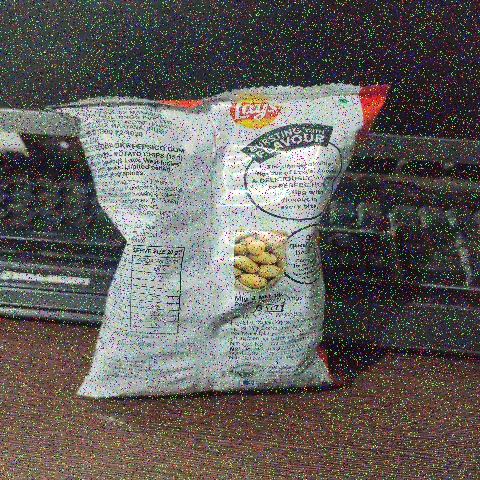lays_orange_pack: (74, 63, 400, 440)
